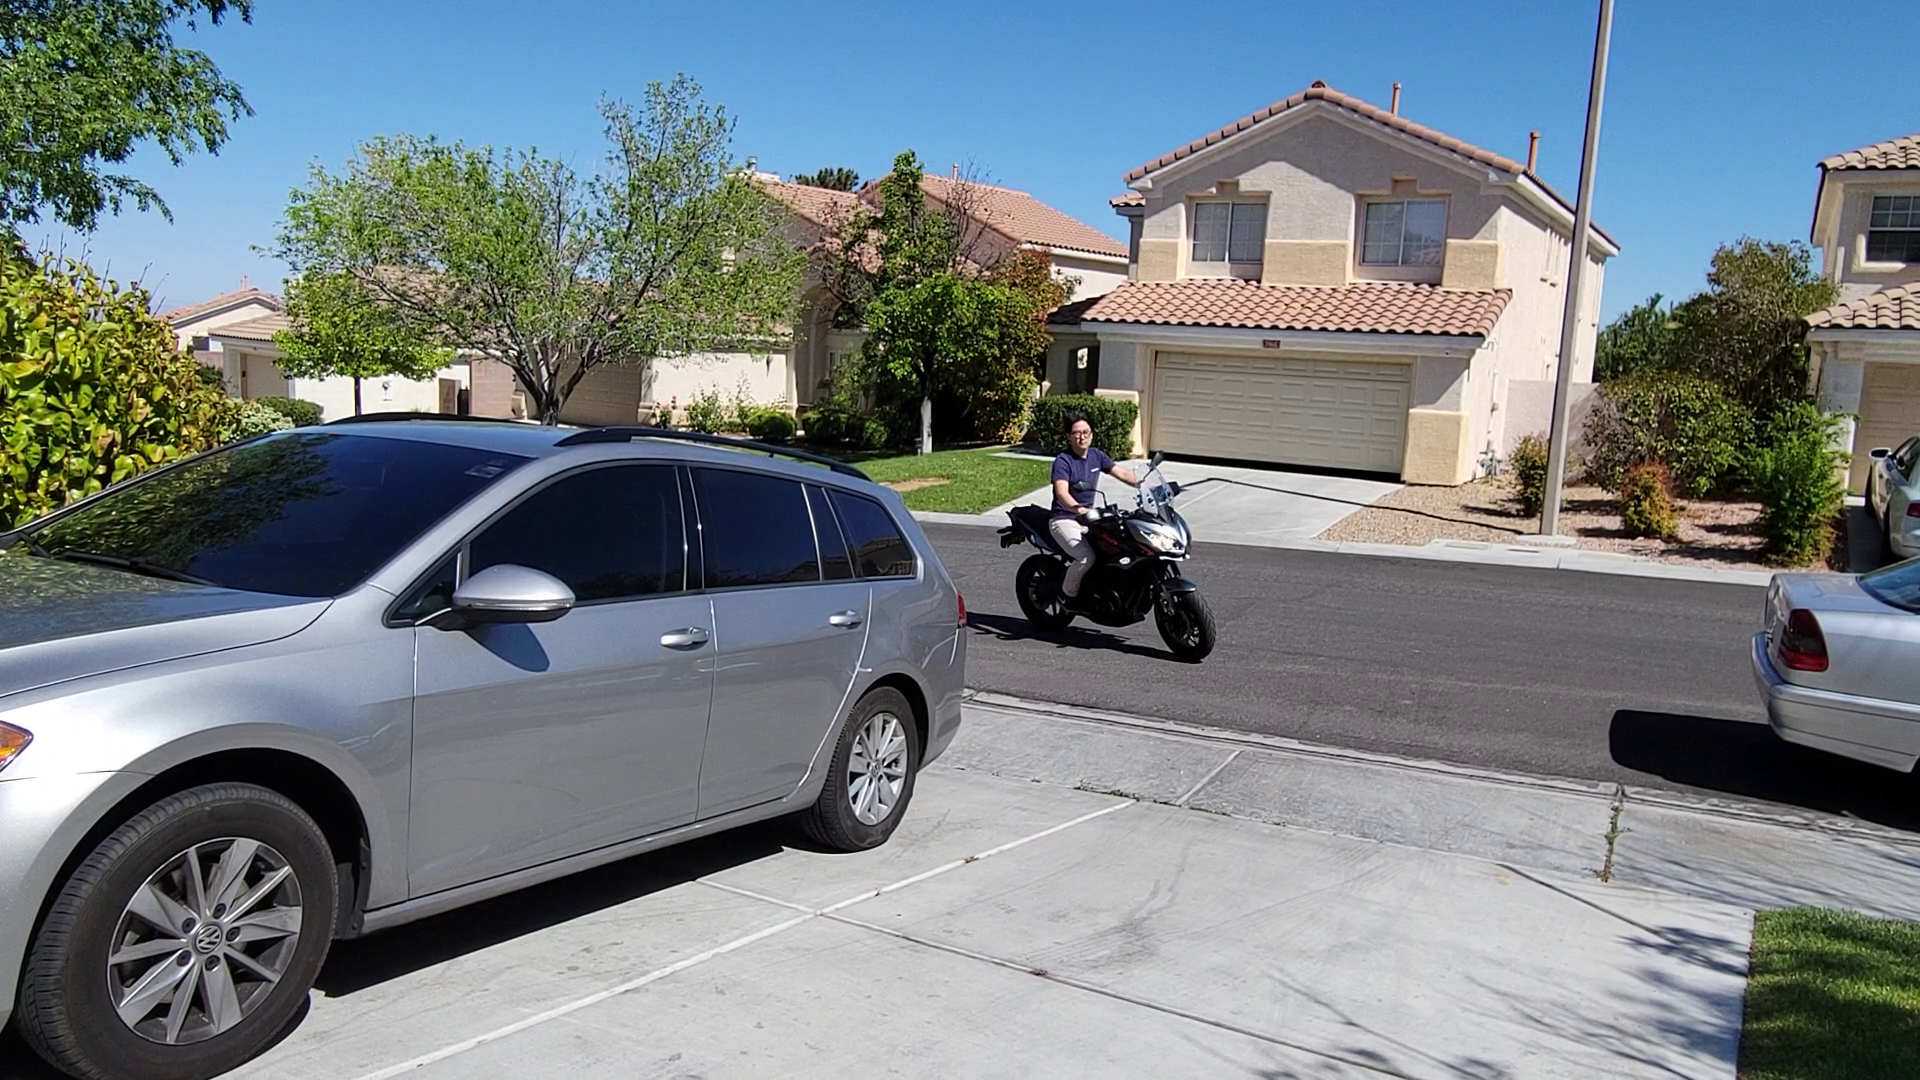my bike: (989, 407, 1218, 662)
